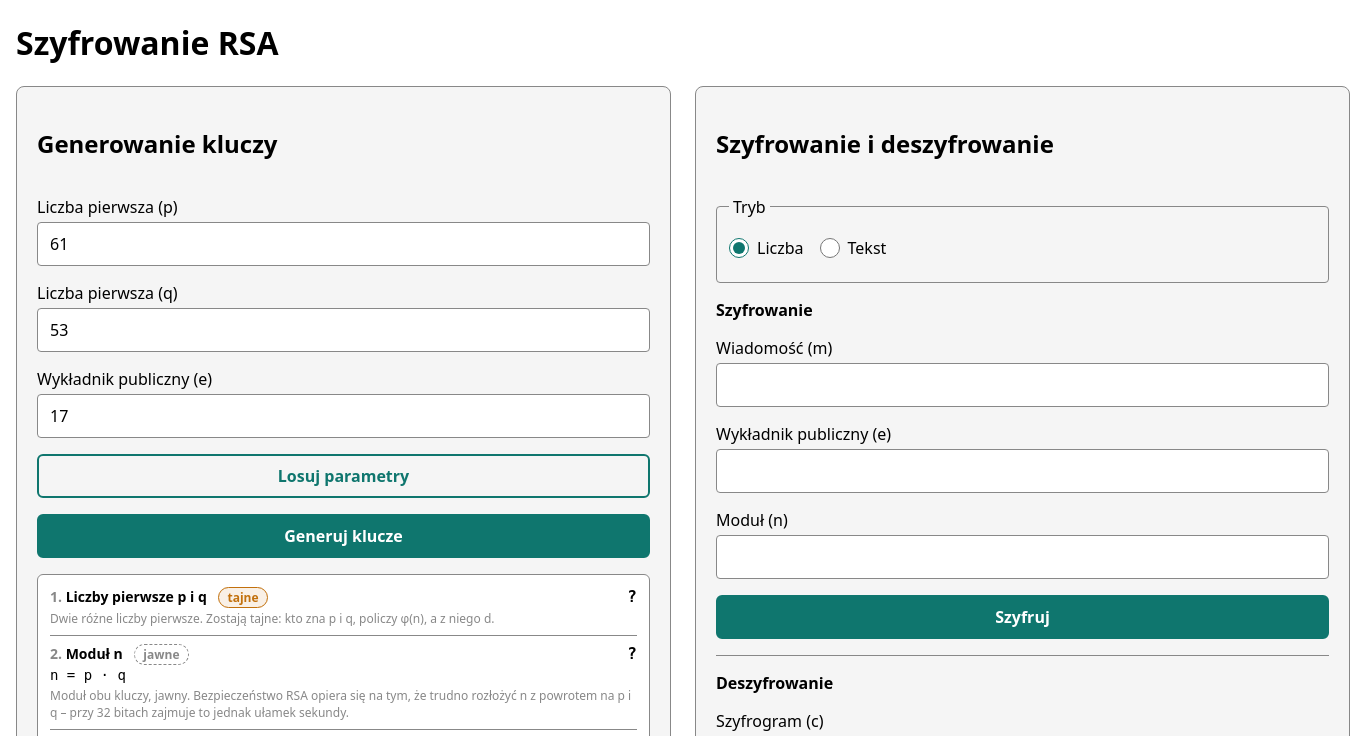
Test: generowanie kluczy krok po kroku › spóźniona odpowiedź po zmianie pola nie wraca
Step 1. Click the button "Generuj klucze" → (344, 536), box 37,514 -> 650,558
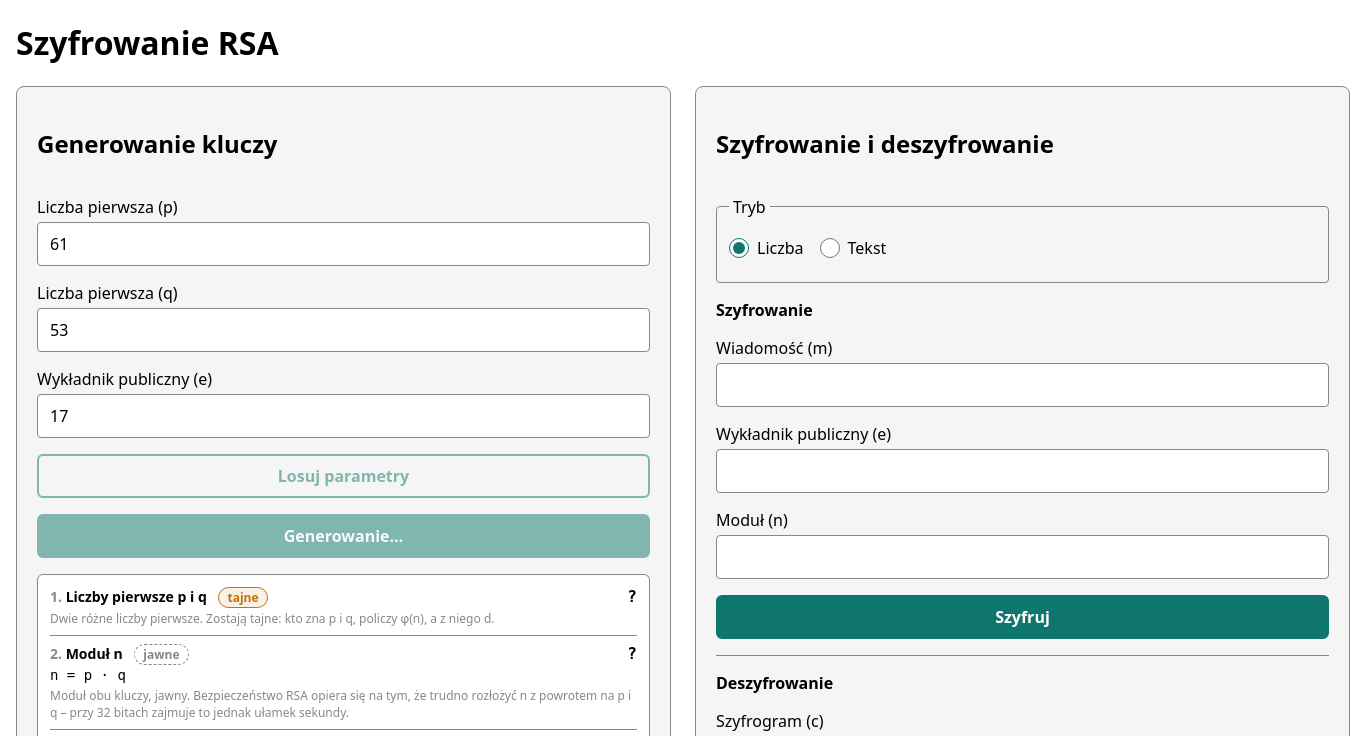
Expected: the button "Generowanie…" is shown, 37,514 -> 650,558
Step 2. Type "9" into the field labelled "Liczba pierwsza (q)" → (344, 330), box 37,308 -> 650,352
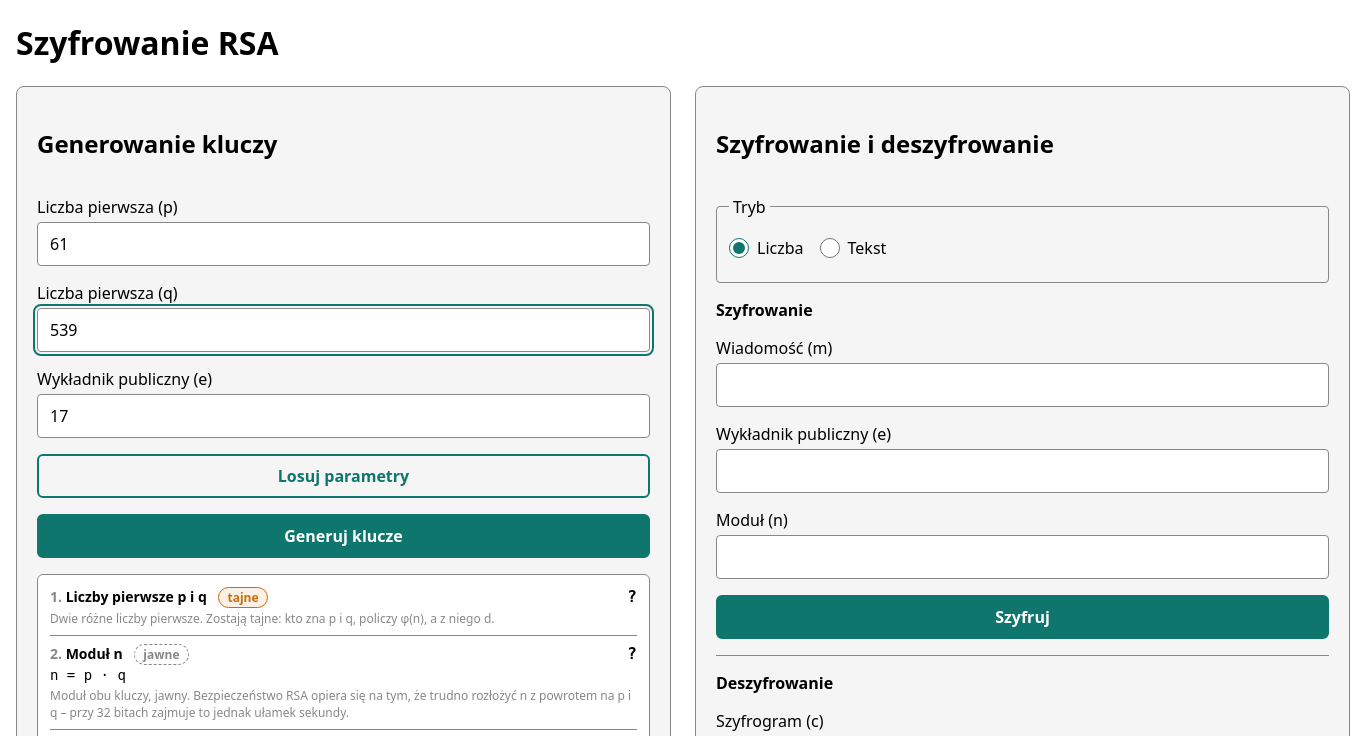
Expected: the button "Generuj klucze" is shown, 37,514 -> 650,558
